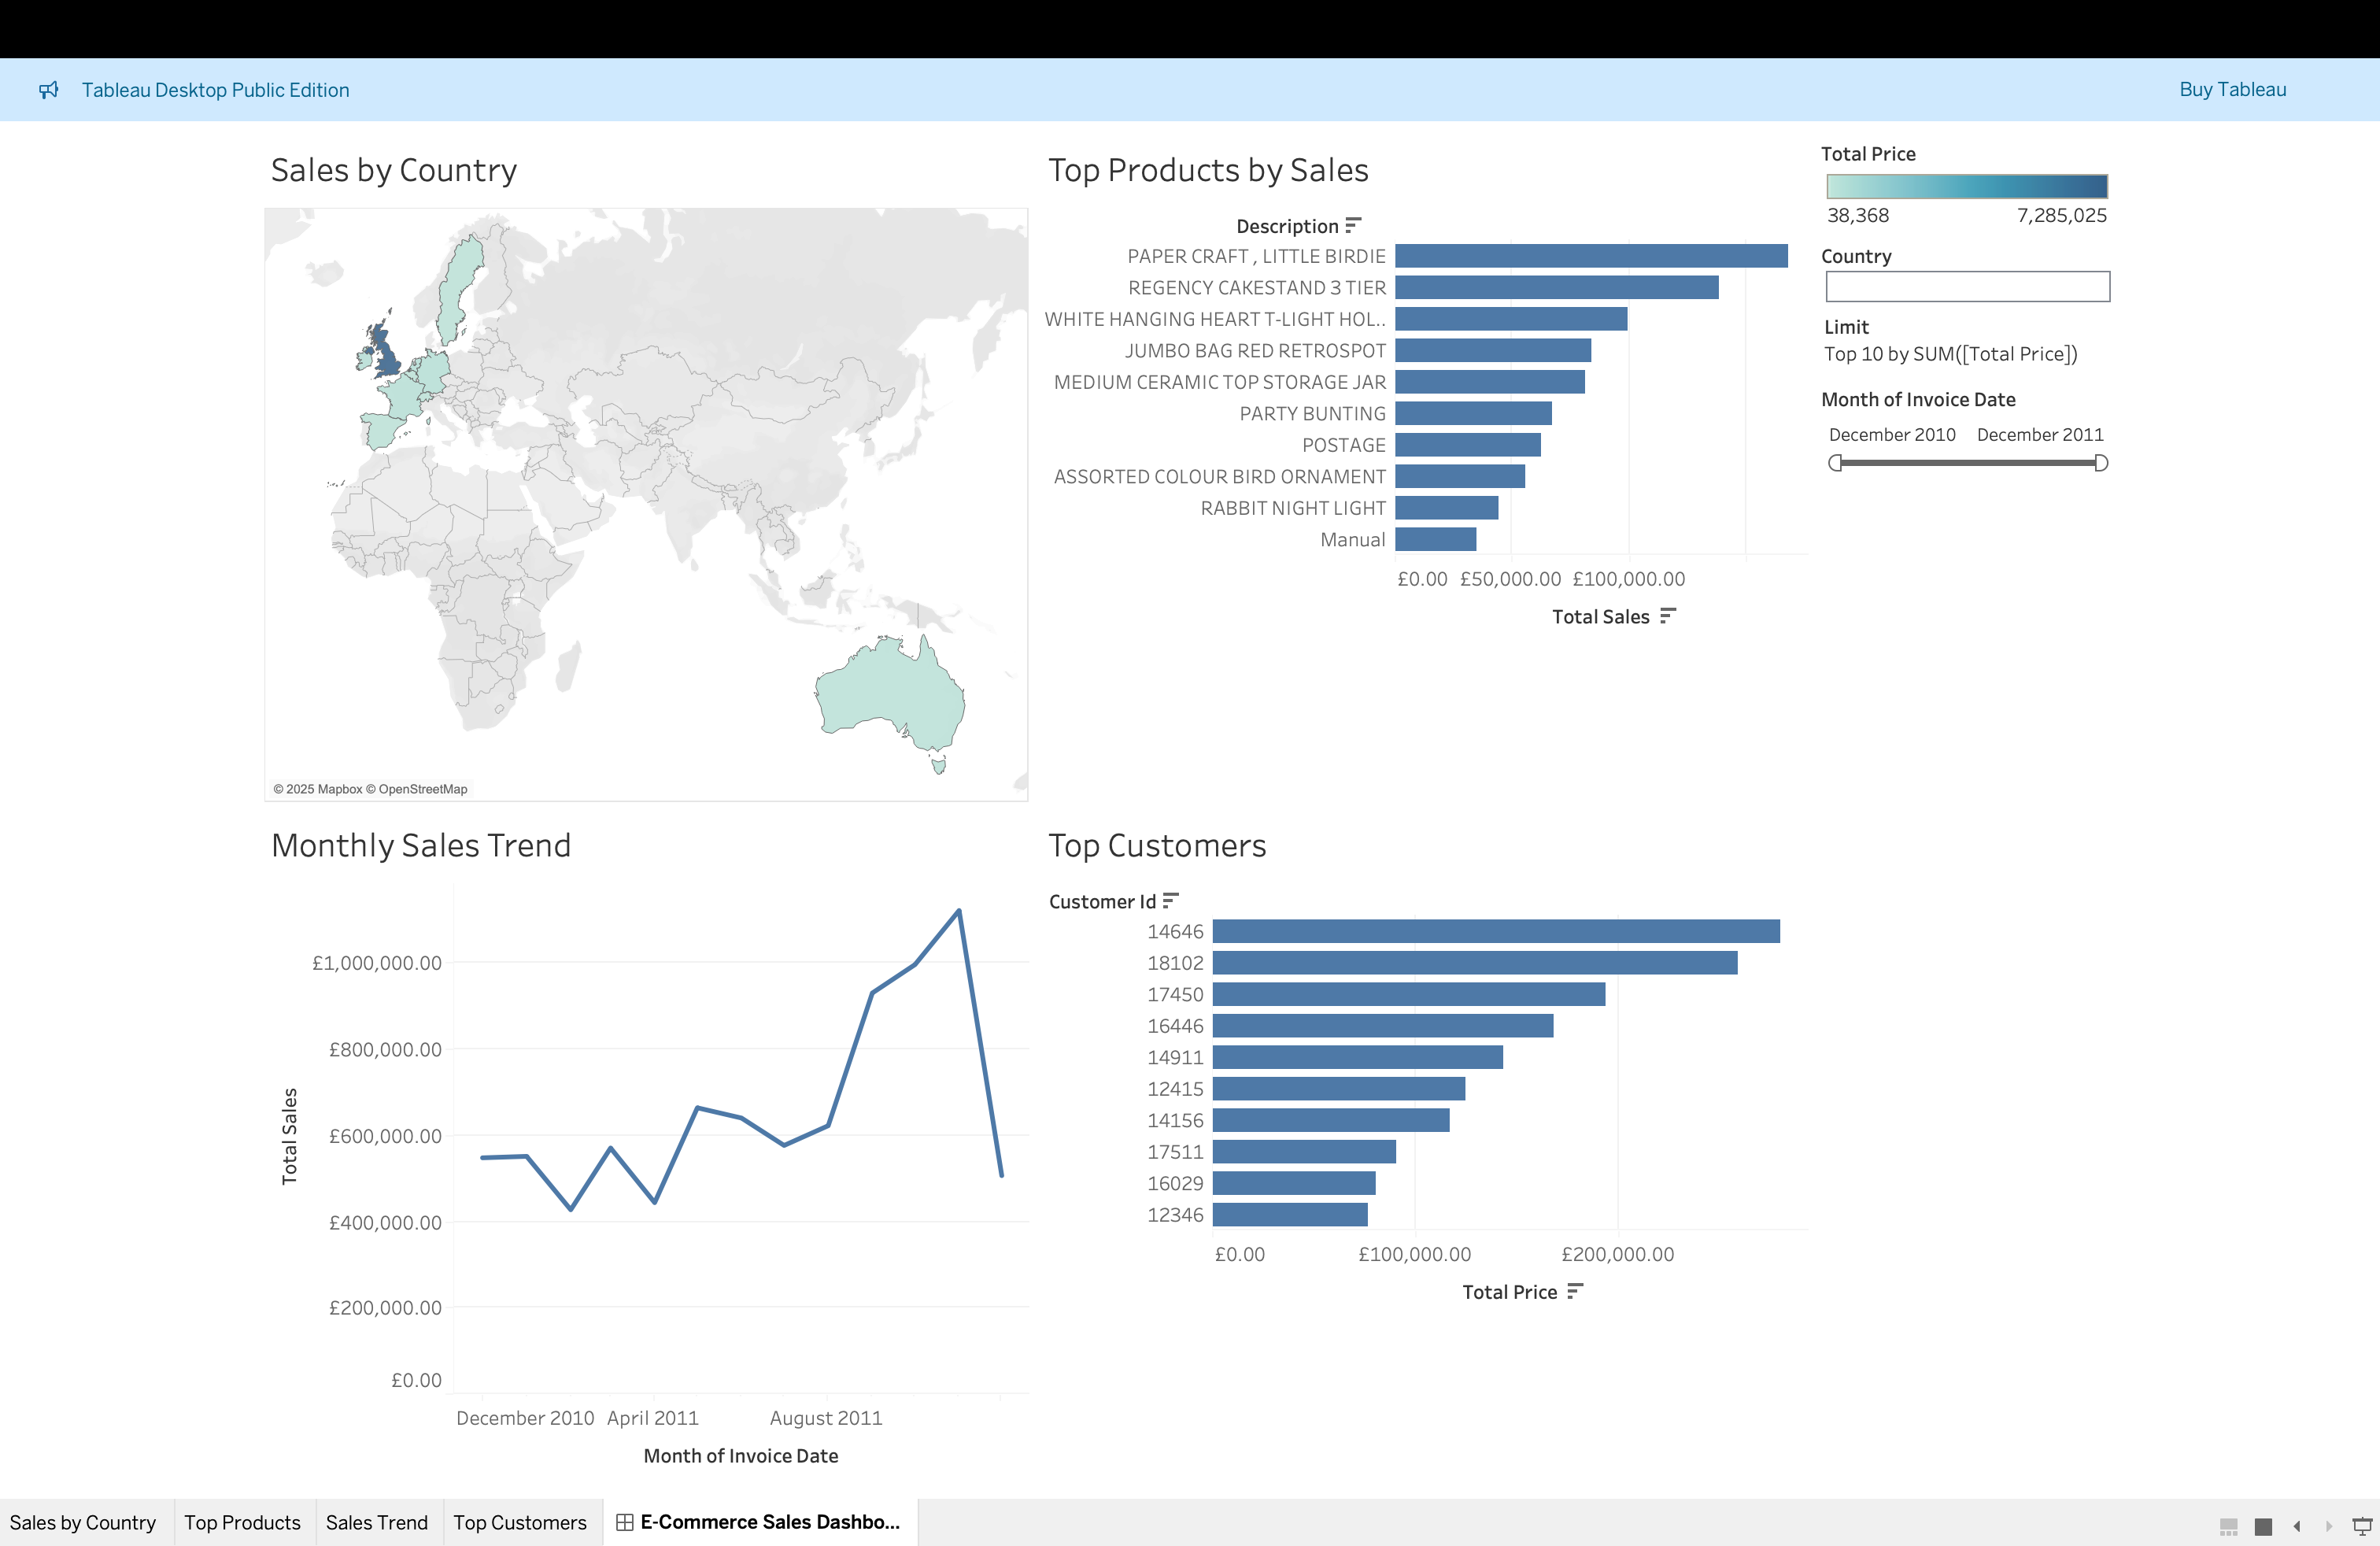

The page's visual inventory and layout, read from the dashboard file:
{"tool":"tableau","page":{"name":"E-Commerce Sales Dashboard","canvas":[1000,1000],"units":"permille","ordinal":0},"visuals":[{"type":"worksheet","title":"Sales by Country","mark":"Automatic","box":[6.7,9.8,412.1,490.2]},{"type":"worksheet","title":"Top Products","mark":"Automatic","rows":["description"],"cols":["total_price"],"box":[418.7,9.8,412.1,490.2]},{"type":"legend","title":"Sales by Country","param":"[federated.0k951yn033kdaj1a9obfy0jzhpnj].[sum:total_price:qk]","box":[830.8,9.8,162.5,79.9]},{"type":"filter","title":"Sales by Country","param":"[federated.0k951yn033kdaj1a9obfy0jzhpnj].[none:country:nk]","box":[830.8,89.7,162.5,111.8]},{"type":"filter","title":"Sales Trend","param":"[federated.0k951yn033kdaj1a9obfy0jzhpnj].[tmn:invoice_date:qk]","box":[830.8,201.5,162.5,84.8]},{"type":"worksheet","title":"Sales Trend","mark":"Automatic","rows":["total_price"],"cols":["invoice_date"],"box":[6.7,500,412.1,490.2]},{"type":"worksheet","title":"Top Customers","mark":"Automatic","rows":["customer_id"],"cols":["total_price"],"box":[418.7,500,412.1,490.2]}]}

Visuals, with their boxes on the dashboard's canvas, which has no fixed pixel size, in thousandths of its width and height (x1, y1, x2, y2). These are canvas units, not pixel positions in the 2380x1546 screenshot, which may show the page scaled, cropped or inside an application window:
"Sales by Country" worksheet: {"left": 7, "top": 10, "right": 419, "bottom": 500}
"Top Products" worksheet: {"left": 419, "top": 10, "right": 831, "bottom": 500}
"Sales by Country" legend: {"left": 831, "top": 10, "right": 993, "bottom": 90}
"Sales by Country" filter: {"left": 831, "top": 90, "right": 993, "bottom": 202}
"Sales Trend" filter: {"left": 831, "top": 202, "right": 993, "bottom": 286}
"Sales Trend" worksheet: {"left": 7, "top": 500, "right": 419, "bottom": 990}
"Top Customers" worksheet: {"left": 419, "top": 500, "right": 831, "bottom": 990}
